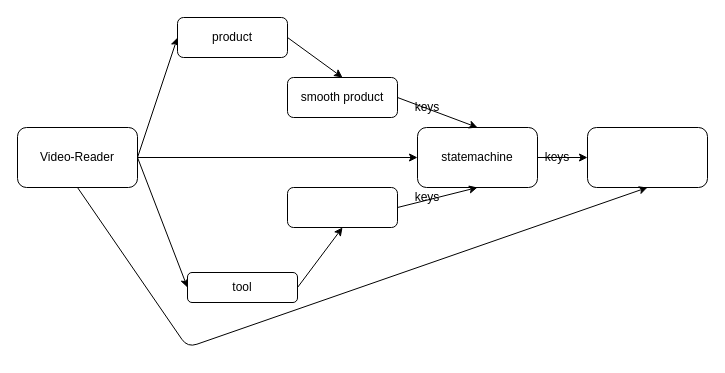
This 725x373 diagram has some shape labels left out. Each missing label, with the box of its shape:
smooth tool: (286, 186, 398, 228)
visiualization: (586, 126, 708, 188)
